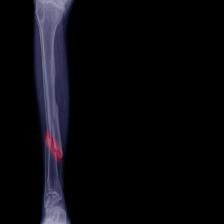open-compound-fracture: (34, 0, 74, 224)
